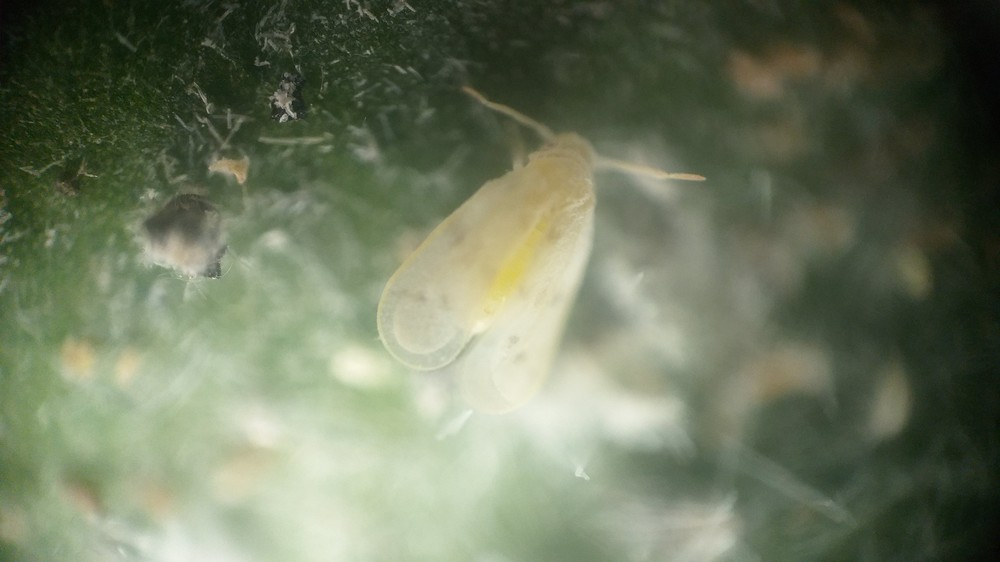Mosca Blanca: (375, 87, 714, 452)
